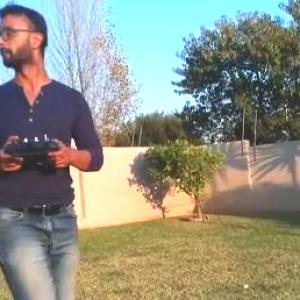follow: (1, 0, 107, 299)
